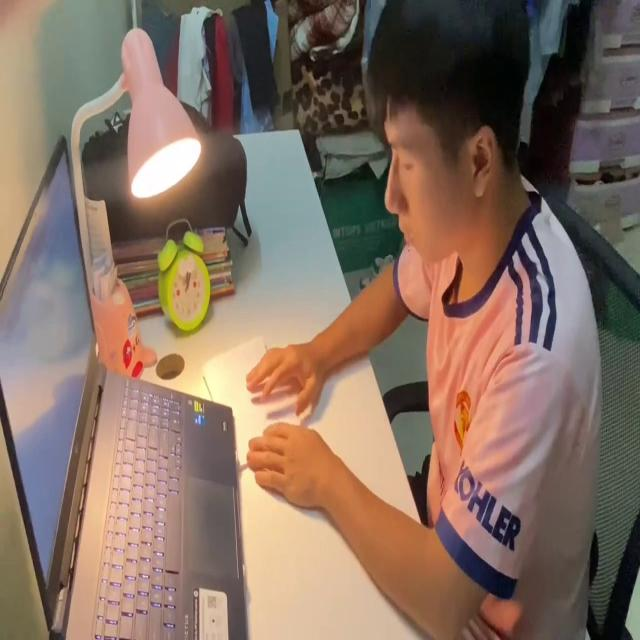book: (203, 318, 298, 461)
laptop: (0, 132, 253, 640)
student: (251, 0, 603, 640)
